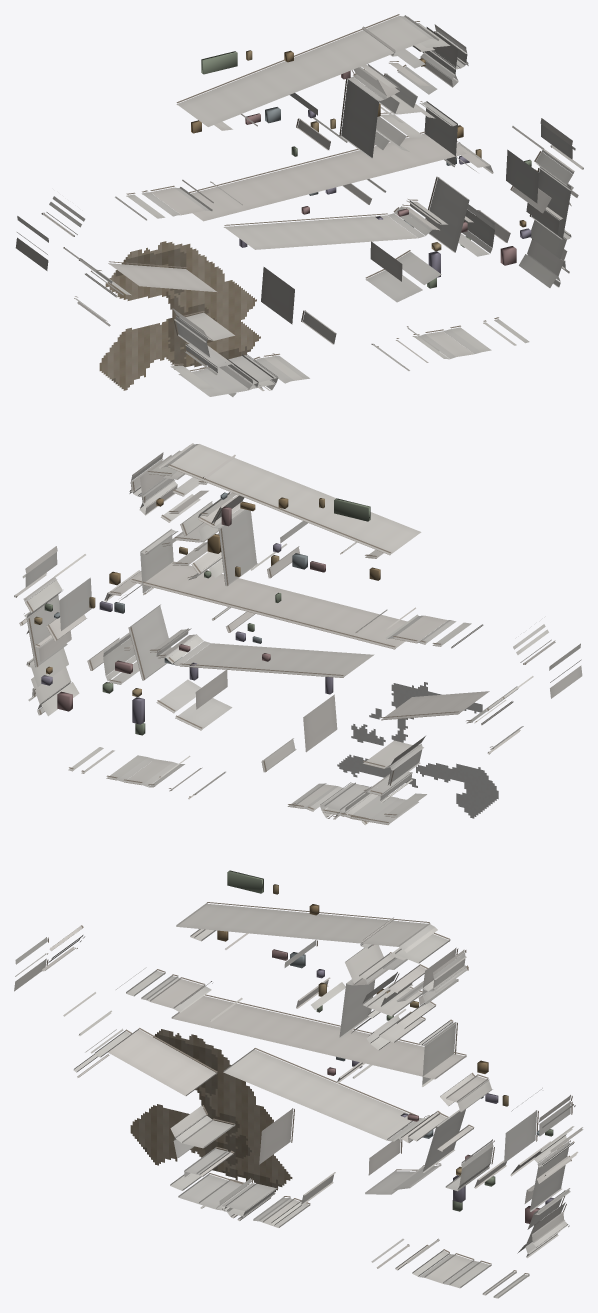
3 renders of one model, top to bottom at view 1: azimuth 30°, elevation 25°; view 2: azimuth 150°, elevation 25°; view 3: azimuth 330°, elevation 25°, orthographic.
Size of the model in its own units: 21.35 by 12.64 by 2.16.
